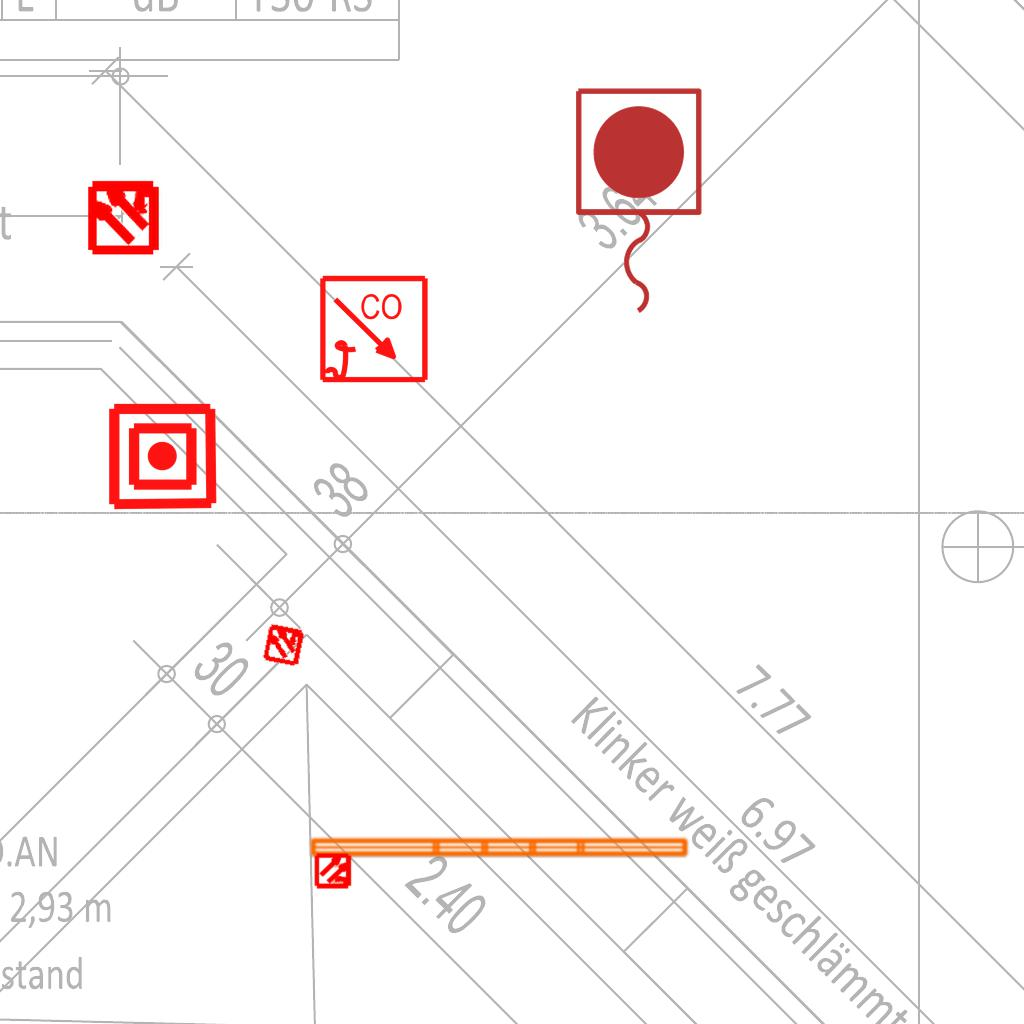Ambulanz_Pendelleuchte_LED: (306, 832, 693, 888)
NAM-Nichtautomatischer_Melder: (106, 400, 219, 513)
OT_Multisensormelder_(Kombination_RMO_WMD): (67, 159, 180, 272), (251, 611, 317, 677), (306, 843, 362, 899)
ROA_Rauchmelder_optisch_mit_Signalgeber_(Sockelsirene): (318, 274, 431, 387)
Zugtaster: (565, 80, 709, 324)
